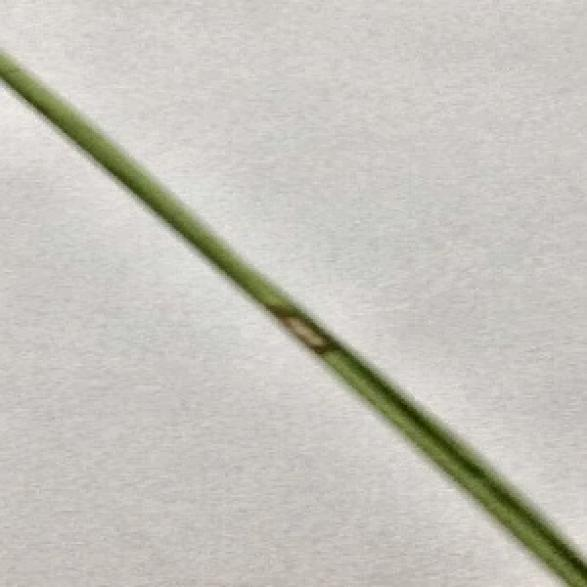Leaf_smut: (262, 297, 348, 364)
